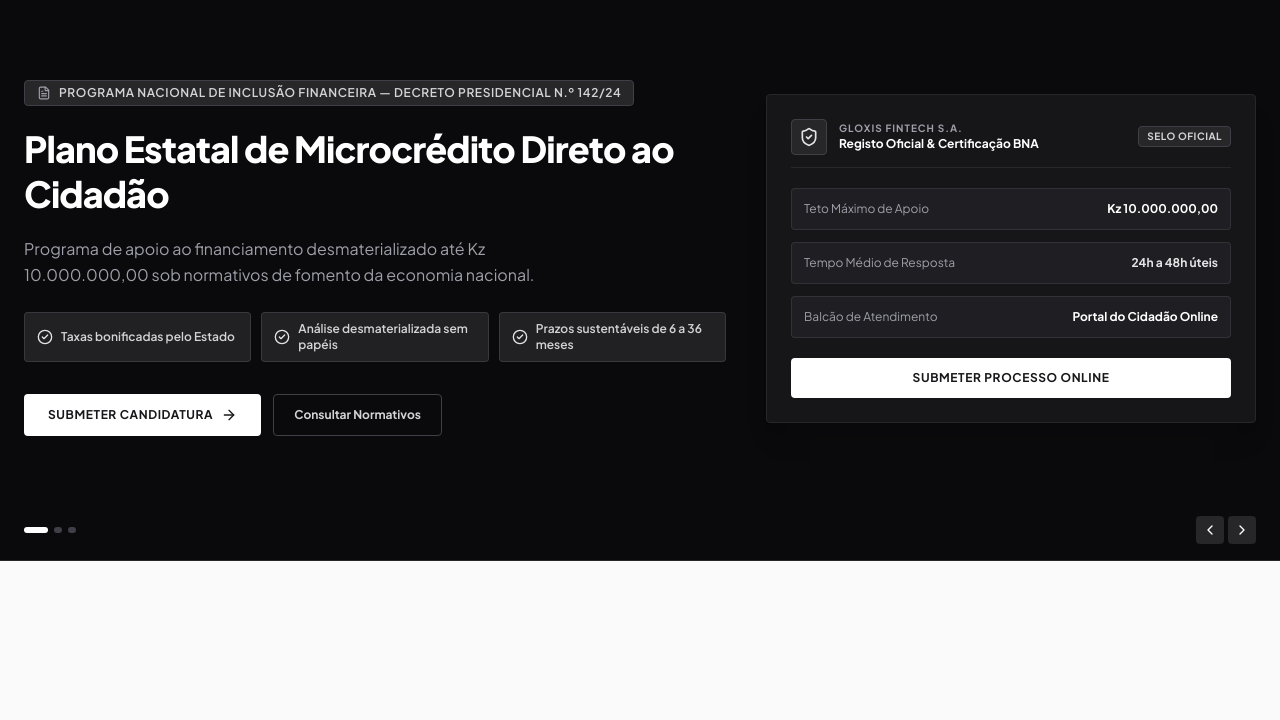
Test: HeroSlider Component › cycles slides on next/prev button clicks
The width and height of the screenshot is (1280, 720).
Click the button with test id "next-slide-btn" at point(1242, 530), box [1228,516,1256,544]
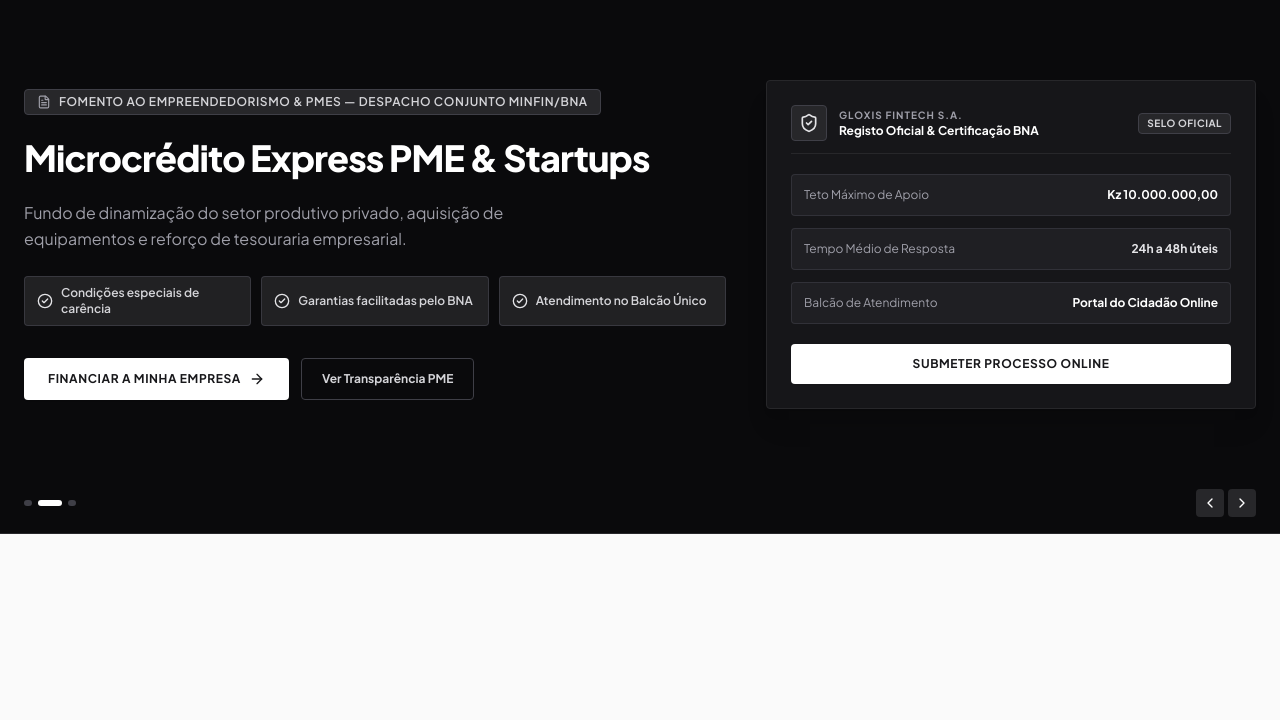
Result: the heading with test id "hero-title" reads "Microcrédito Express PME & Startups" at [24,135,650,180]
